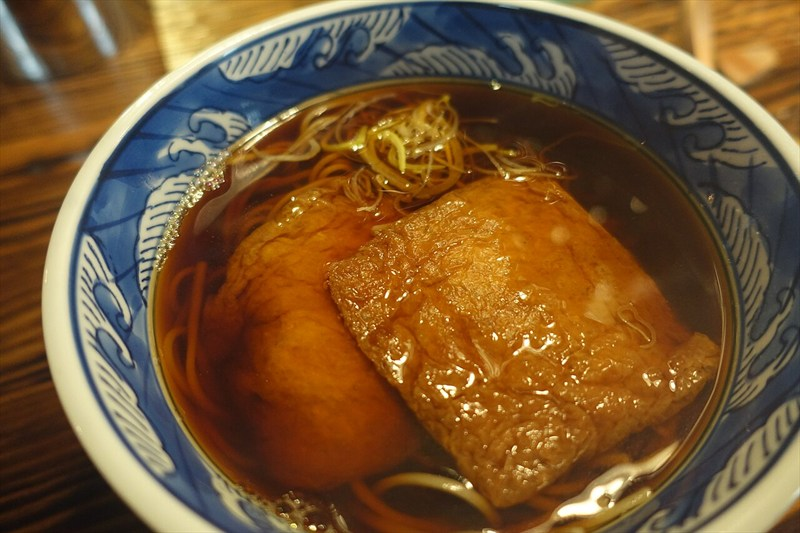Tahu Goreng: (32, 11, 743, 512)
